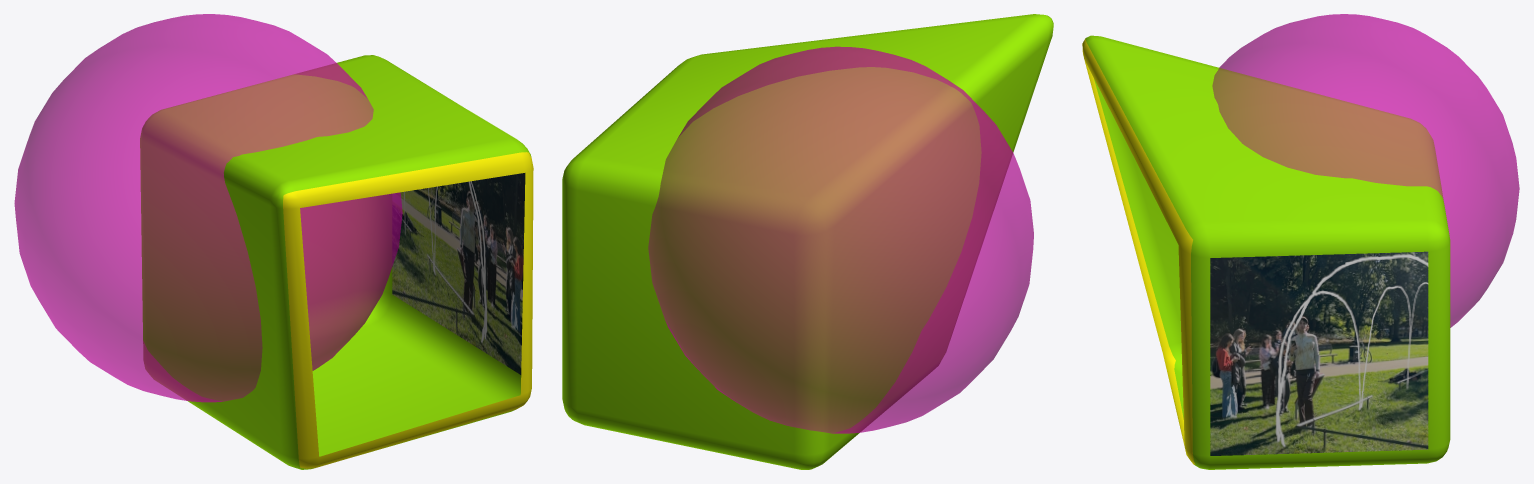
The picture shows the model from 3 angles, left to right: view 1: azimuth 30°, elevation 25°; view 2: azimuth 150°, elevation 25°; view 3: azimuth 270°, elevation 25°; orthographic projection. The views are drawn at different scales.
Visible parts, largest first — view 1: Cube, Sphere; view 2: Cube, Sphere; view 3: Cube, Sphere.
Boxes of the visible parts, x1,y1,x2,y2 form: Cube: (140,55,533,469); Sphere: (14,14,402,402); Cube: (562,14,1053,469); Sphere: (648,46,1033,433); Cube: (1082,35,1450,469); Sphere: (1212,14,1519,327).
Size of the model in its own units: 3.23 by 2.81 by 3.28.
Materials: 4 (1 with a texture image).
